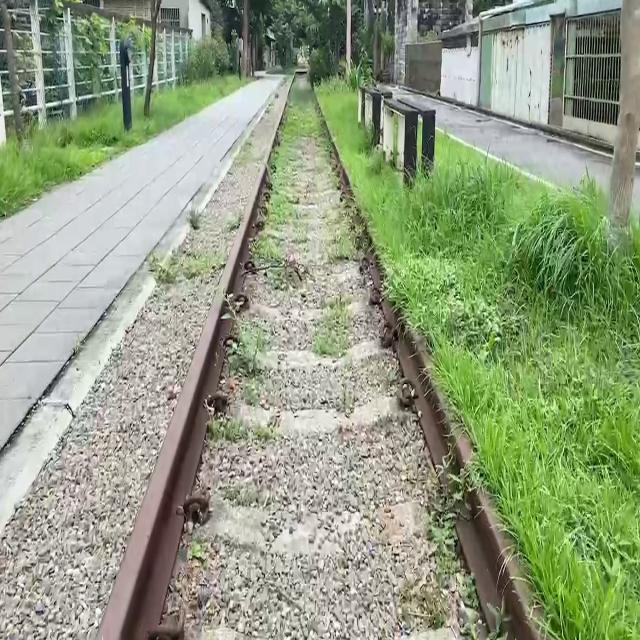rail-track: (161, 75, 485, 640)
